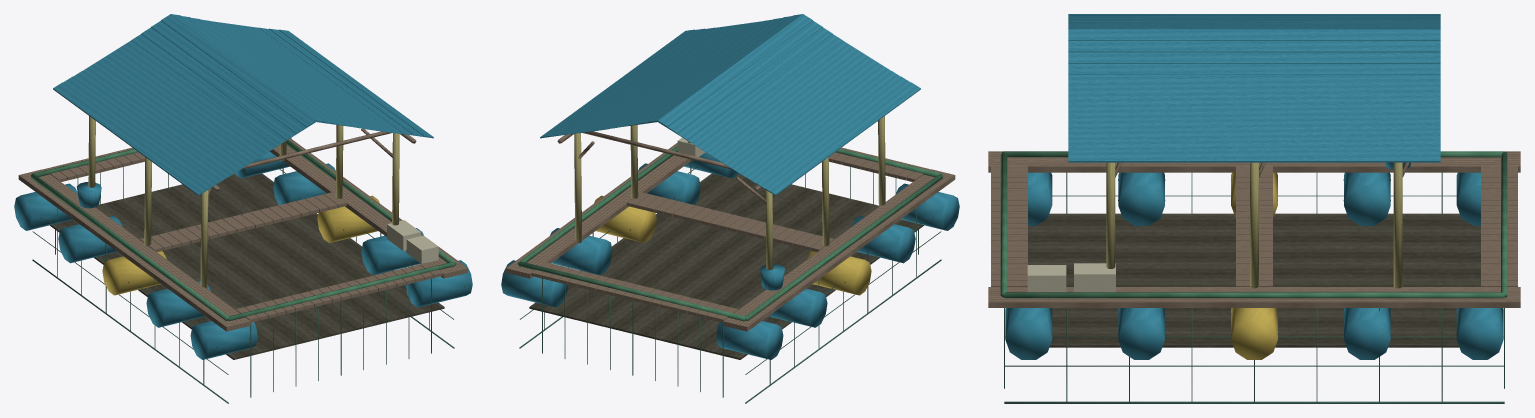
File: bung-raft-1-blue.glb
The picture shows the model from 3 angles, left to right: view 1: azimuth 30°, elevation 25°; view 2: azimuth 150°, elevation 25°; view 3: azimuth 270°, elevation 25°; orthographic projection. The views are drawn at different scales.
Parts seen in each view (by area): view 1: bung-raft-1-blue; view 2: bung-raft-1-blue; view 3: bung-raft-1-blue.
Boxes of the visible parts, x1,y1,x2,y2 form: bung-raft-1-blue: (14, 14, 472, 403); bung-raft-1-blue: (501, 14, 959, 403); bung-raft-1-blue: (988, 14, 1520, 403).
Size of the model in its own units: 4.84 by 4.17 by 6.6.
Materials: 1 (1 with a texture image).
